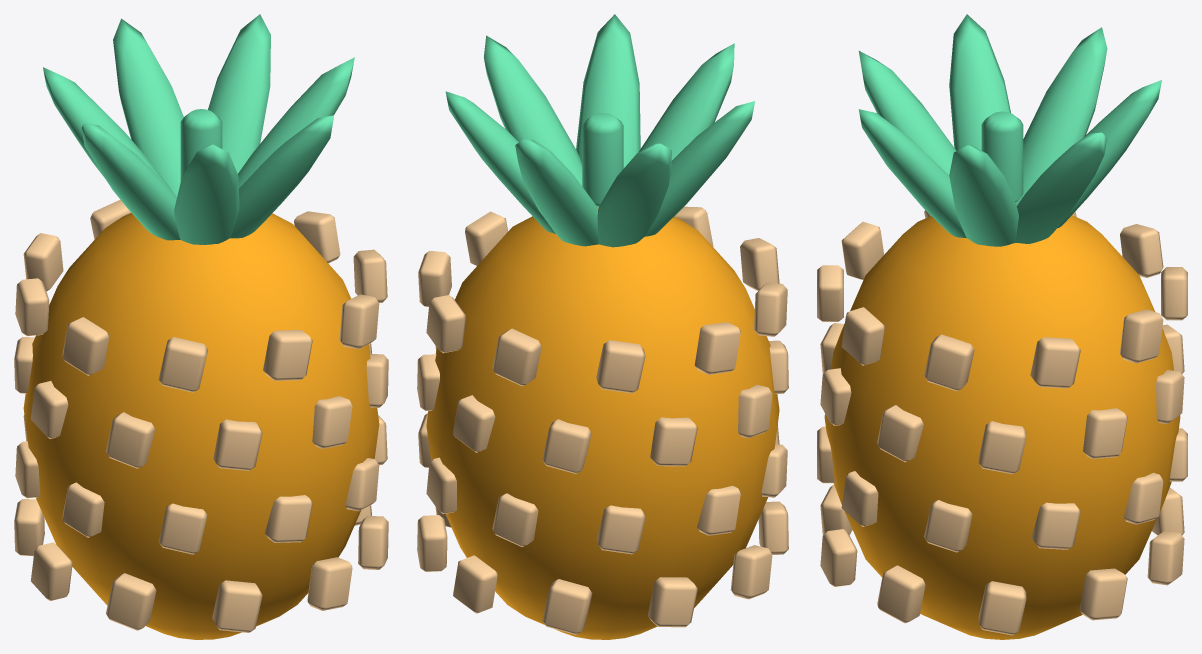
The model's file is pineapple.glb.
The picture shows the model from 3 angles, left to right: view 1: azimuth 30°, elevation 25°; view 2: azimuth 150°, elevation 25°; view 3: azimuth 270°, elevation 25°; orthographic projection.
Visible parts, largest first — view 1: pineapple; view 2: pineapple; view 3: pineapple.
Boxes of the visible parts, x1,y1,x2,y2 form: pineapple: [14, 14, 388, 639]; pineapple: [417, 14, 788, 639]; pineapple: [817, 14, 1187, 639].
Size of the model in its own units: 0.6139 by 1 by 0.6139.
Materials: 1 (1 with a texture image).
